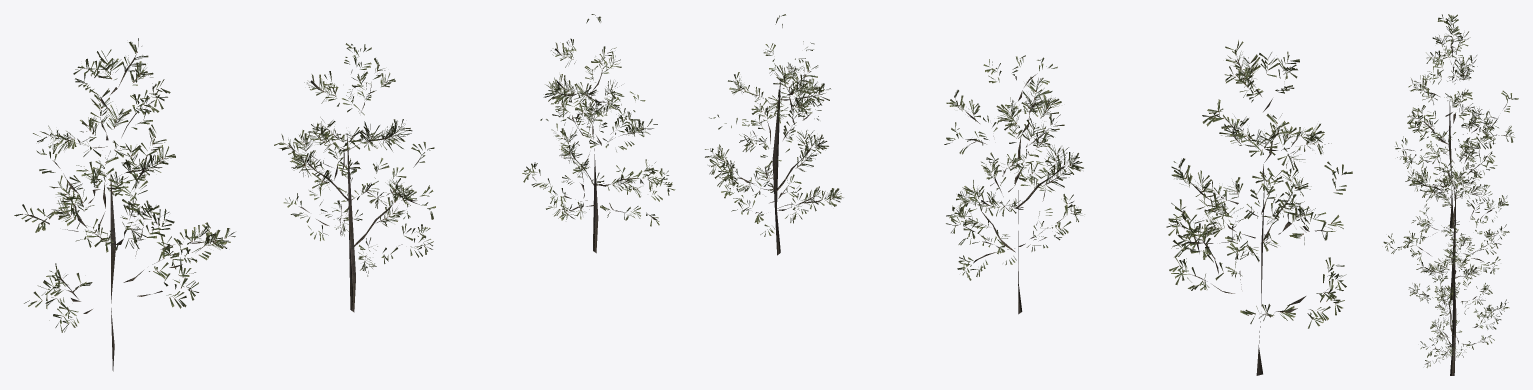
The model's file is pine_sapling_small.glb.
3 views of the same model, side by side, from view 1: azimuth 30°, elevation 25°; view 2: azimuth 150°, elevation 25°; view 3: azimuth 270°, elevation 25° (orthographic). The views are drawn at different scales.
Visible parts, largest first — view 1: pine_sapling_small_a, pine_sapling_small_b, pine_sapling_small_c; view 2: pine_sapling_small_a, pine_sapling_small_b, pine_sapling_small_c; view 3: pine_sapling_small_a, pine_sapling_small_b, pine_sapling_small_c.
Boxes of the visible parts, left/top/right/bottom form: pine_sapling_small_a: left=14, top=38, right=235, bottom=371; pine_sapling_small_b: left=274, top=43, right=435, bottom=312; pine_sapling_small_c: left=522, top=14, right=675, bottom=253; pine_sapling_small_a: left=1166, top=40, right=1352, bottom=375; pine_sapling_small_b: left=944, top=55, right=1084, bottom=314; pine_sapling_small_c: left=705, top=14, right=843, bottom=255; pine_sapling_small_a: left=1395, top=14, right=1518, bottom=228; pine_sapling_small_b: left=1383, top=132, right=1509, bottom=300; pine_sapling_small_c: left=1408, top=225, right=1509, bottom=375.
Bounding box in the file's own units: 2.62 × 1.29 × 0.7677.
2 materials, 2 textured.
